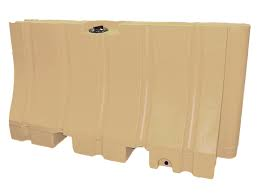barrier: (7, 20, 250, 179)
